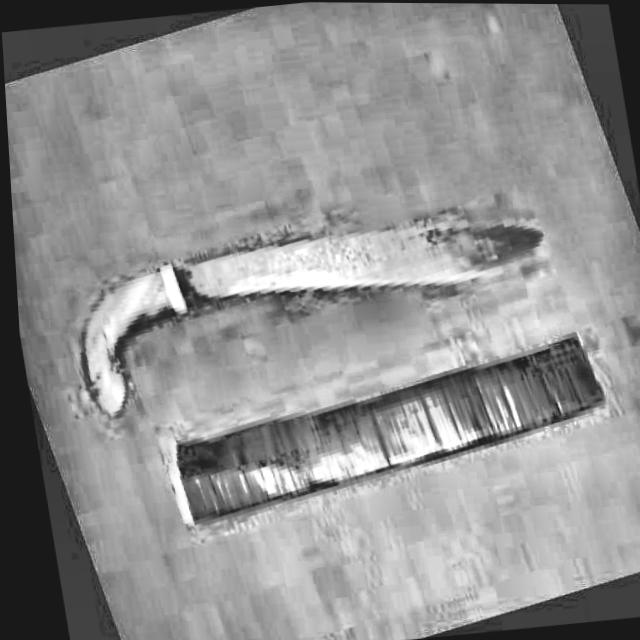pisau: (61, 205, 564, 434)
